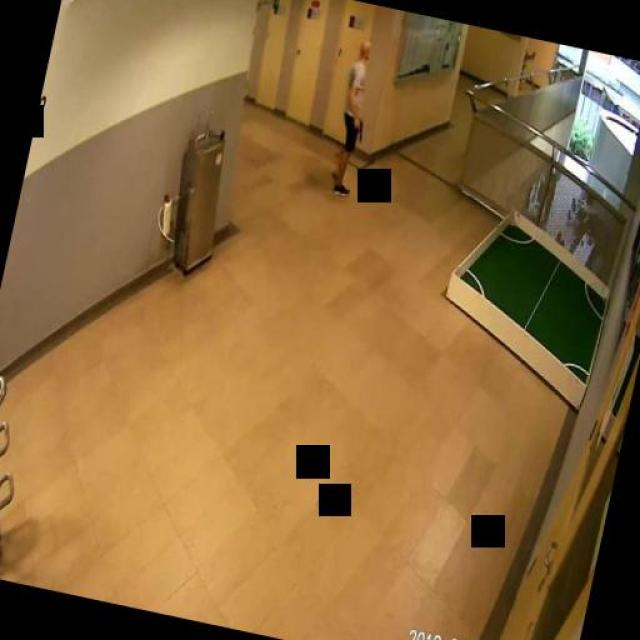gun: (349, 116, 365, 140)
